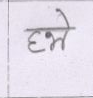e_matra: (56, 8, 74, 27)
